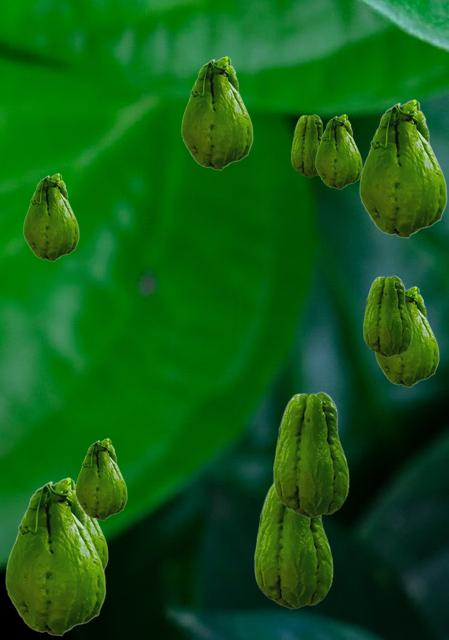sayote: (5, 477, 105, 635), (359, 99, 446, 237), (254, 483, 332, 608), (273, 391, 348, 517), (181, 56, 252, 169), (375, 286, 438, 386), (23, 173, 78, 260), (75, 438, 126, 519), (363, 275, 411, 356), (315, 114, 361, 188), (291, 114, 323, 176), (86, 517, 107, 569)
